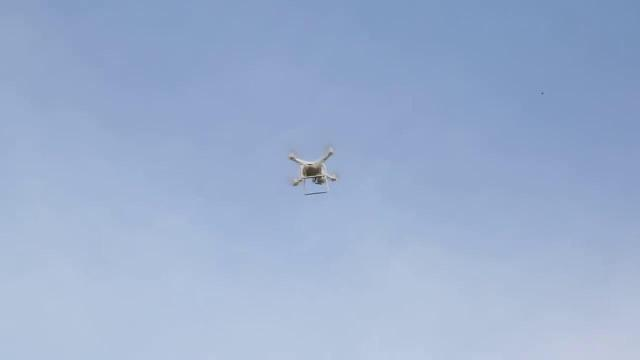drone: (263, 131, 367, 209)
